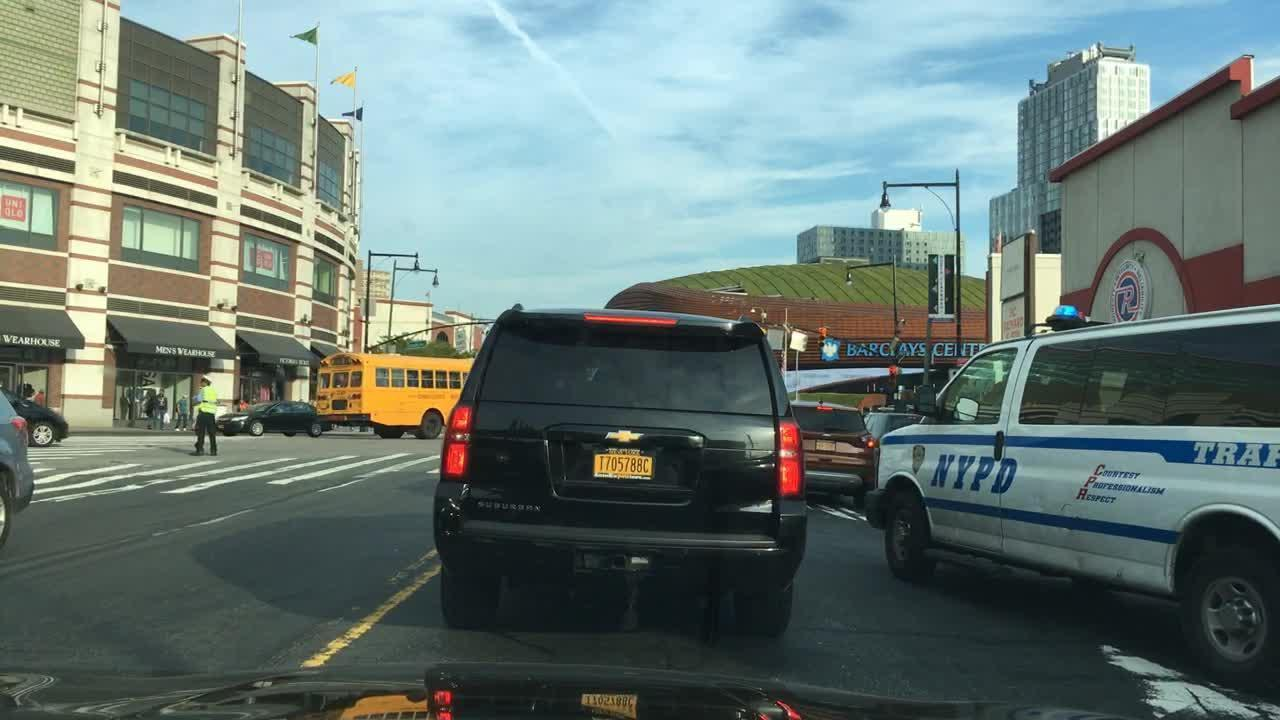chevrolet: (598, 421, 647, 448)
